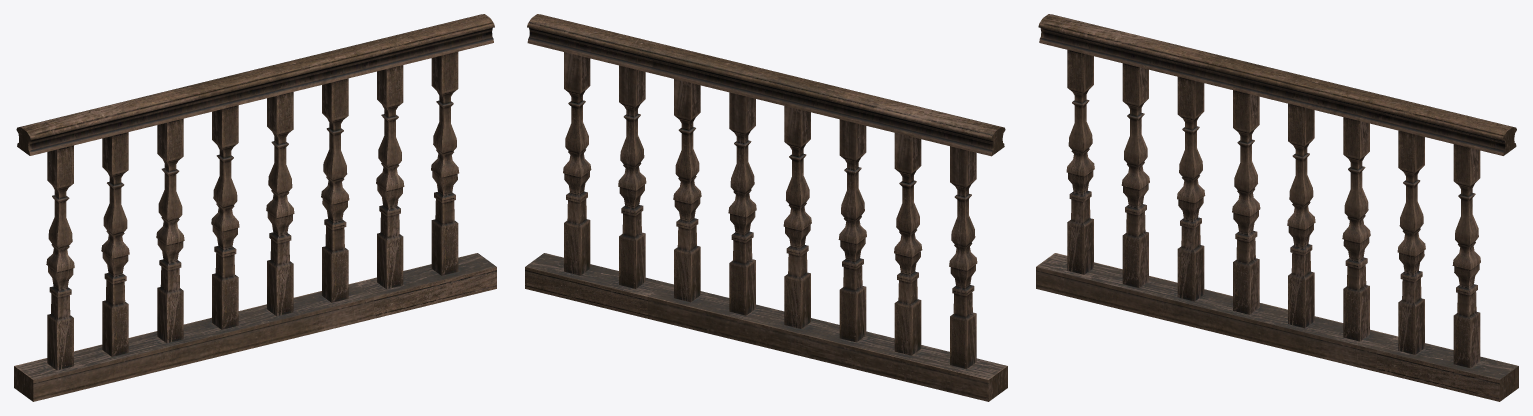
Rendered from Railing.fbx.
The picture shows the model from 3 angles, left to right: view 1: azimuth 30°, elevation 25°; view 2: azimuth 150°, elevation 25°; view 3: azimuth 330°, elevation 25°; orthographic projection.
Parts seen in each view (by area): view 1: SM_Railing_Short_LOD0; view 2: SM_Railing_Short_LOD0; view 3: SM_Railing_Short_LOD0.
Boxes of the visible parts, x1,y1,x2,y2 form: SM_Railing_Short_LOD0: (14,14,496,401); SM_Railing_Short_LOD0: (525,14,1007,401); SM_Railing_Short_LOD0: (1036,14,1518,401).
Size of the model in its own units: 200 by 110 by 14.34.
